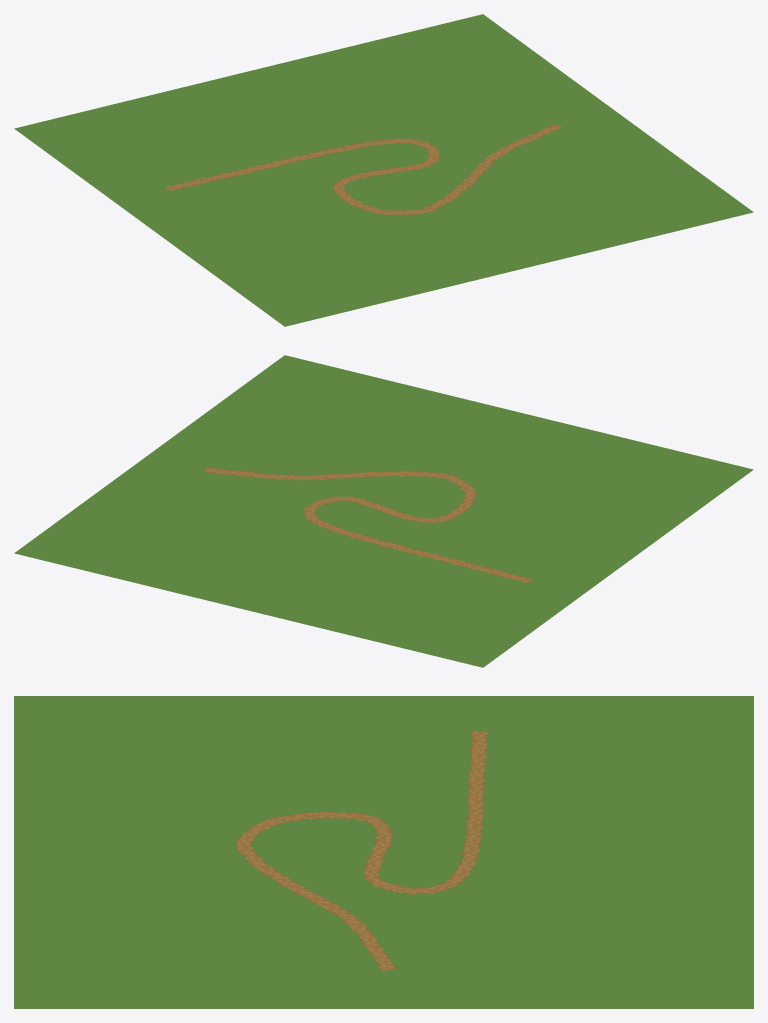
File: blendTerrainTest3.fbx
The picture shows the model from 3 angles, top to bottom: view 1: azimuth 30°, elevation 25°; view 2: azimuth 150°, elevation 25°; view 3: azimuth 270°, elevation 25°; orthographic projection. The views are drawn at different scales.
Parts seen in each view (by area): view 1: Plane; view 2: Plane; view 3: Plane.
Part boxes in pixels (left/top/right/bottom): Plane: left=14, top=14, right=753, bottom=326; Plane: left=14, top=355, right=753, bottom=667; Plane: left=14, top=696, right=753, bottom=1008.
Bounding box in the file's own units: 1600 × 0.0932 × 1600.
Materials: 1 (1 with a texture image).
